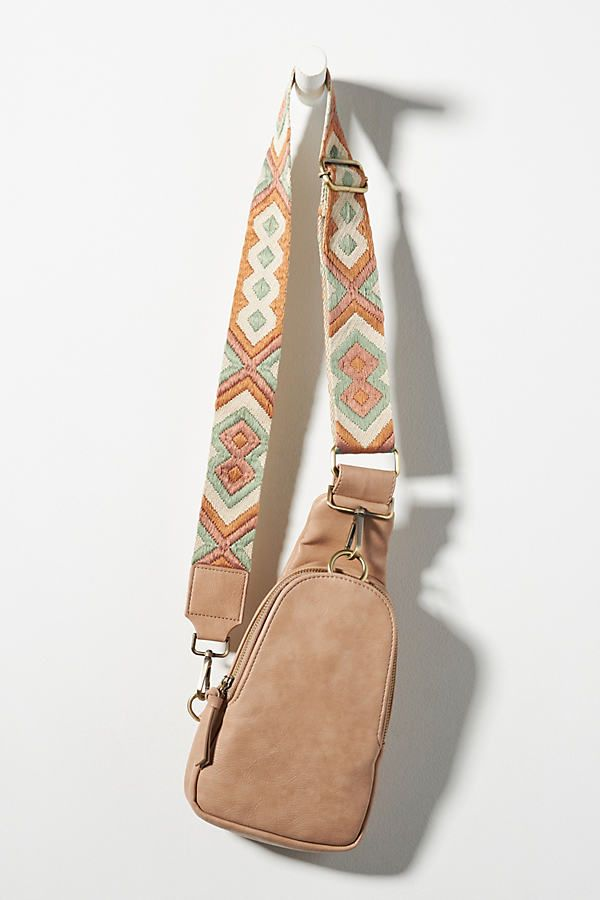cuero: (184, 465, 398, 850)
